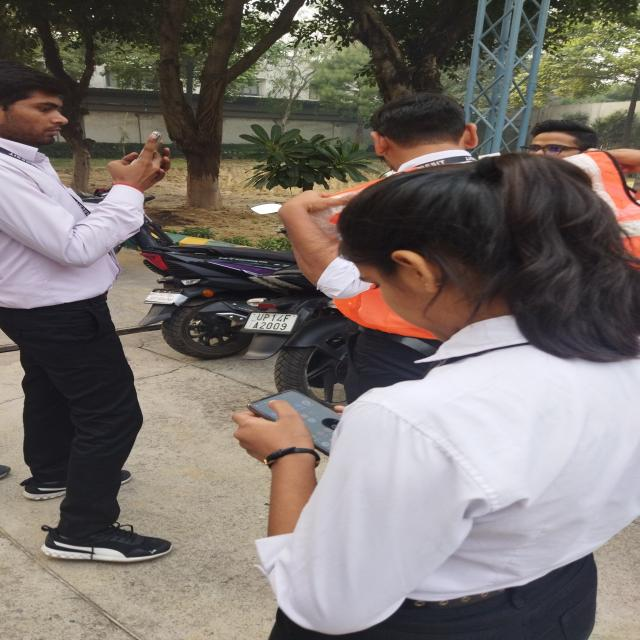unsafe: (271, 162, 621, 640), (0, 60, 181, 571)
